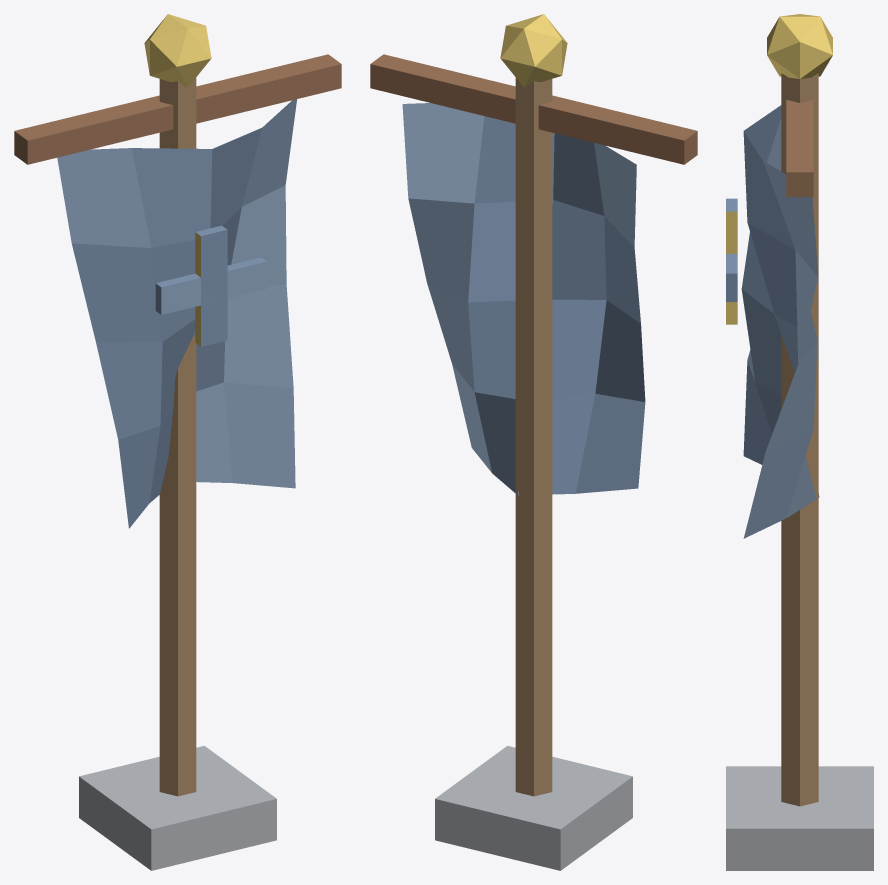
Rendered from animprop_banner_02.glb.
3 views of the same model, side by side, from view 1: azimuth 30°, elevation 25°; view 2: azimuth 150°, elevation 25°; view 3: azimuth 270°, elevation 25° (orthographic).
Parts seen in each view (by area): view 1: animprop; view 2: animprop; view 3: animprop.
Boxes of the visible parts, <box> form: animprop: <box>14,14,341,870</box>; animprop: <box>370,14,697,870</box>; animprop: <box>726,14,873,870</box>.
Bounding box in the file's own units: 0.95 × 2.34 × 0.3801.
